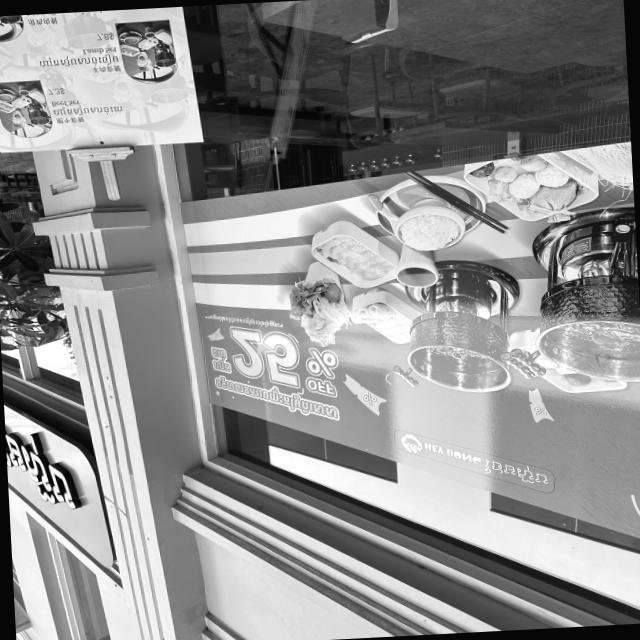Yolov11kh: (212, 373, 343, 425), (477, 455, 552, 490), (206, 358, 236, 375), (207, 345, 232, 361)
